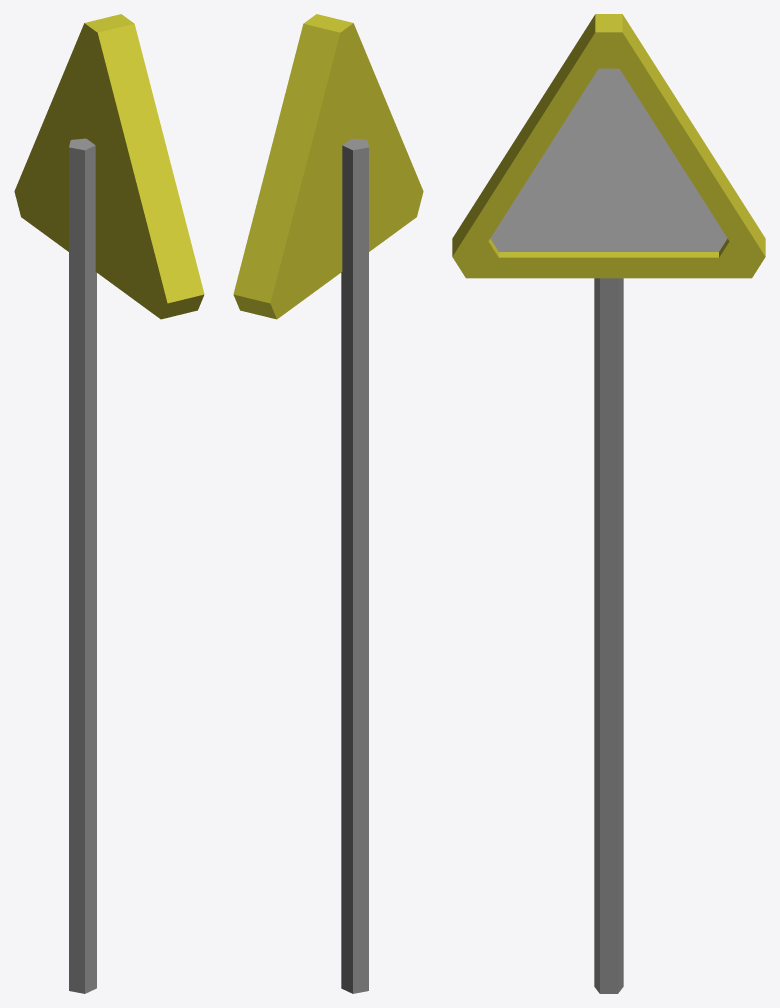
The model's file is sign-triangle-c5798b1020.glb.
The picture shows the model from 3 angles, left to right: view 1: azimuth 30°, elevation 25°; view 2: azimuth 150°, elevation 25°; view 3: azimuth 270°, elevation 25°; orthographic projection. The views are drawn at different scales.
Parts seen in each view (by area): view 1: Sign_Triangle.obj; view 2: Sign_Triangle.obj; view 3: Sign_Triangle.obj.
Boxes of the visible parts, <box> form: Sign_Triangle.obj: <box>14,14,204,993</box>; Sign_Triangle.obj: <box>233,14,423,993</box>; Sign_Triangle.obj: <box>452,14,765,993</box>.
Size of the model in its own units: 0.0345 by 0.5344 by 0.1549.
